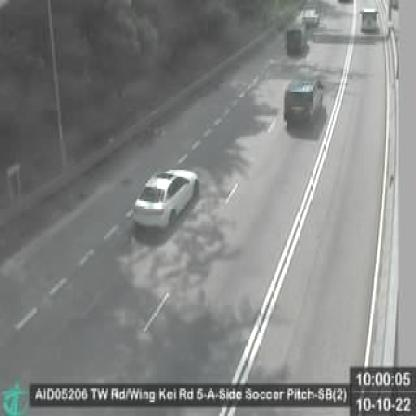Car: (133, 166, 200, 229), (285, 74, 324, 127), (361, 6, 380, 36)
Truck: (284, 23, 308, 58)
